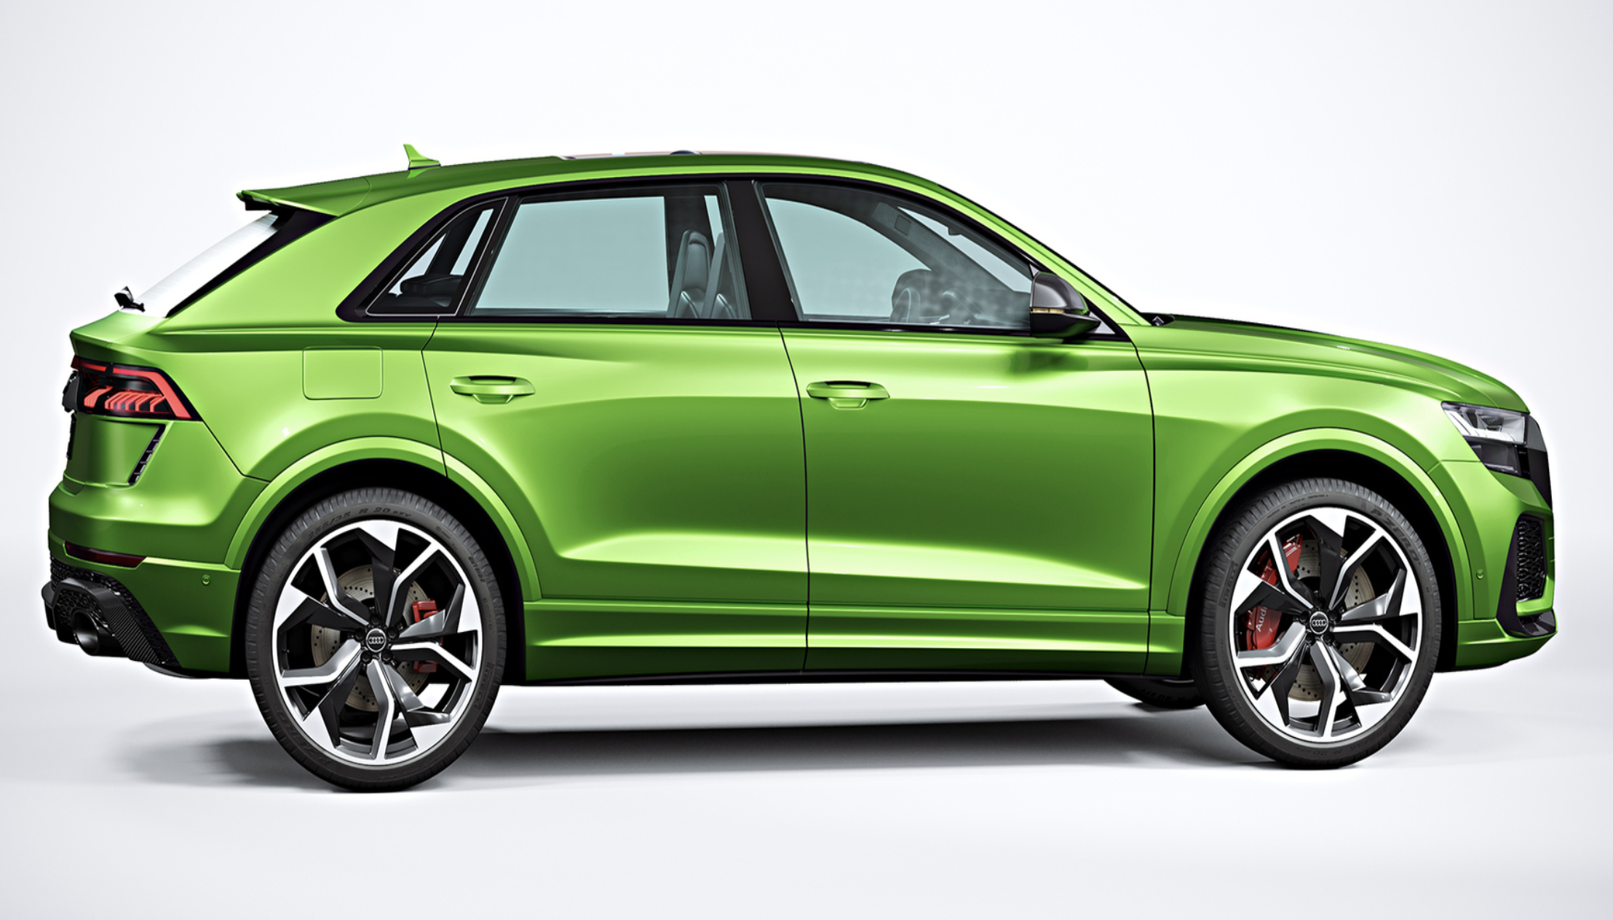hatch: (299, 335, 389, 405)
